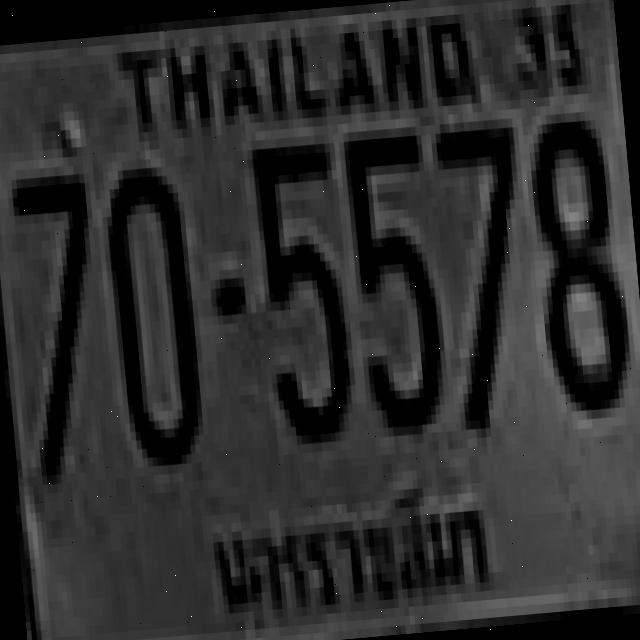0: (98, 156, 200, 460)
5: (246, 134, 349, 438), (338, 126, 440, 430)
7: (429, 114, 533, 426), (5, 164, 104, 476)
8: (524, 110, 626, 404)
NakhonRatchasima: (193, 461, 504, 638)
